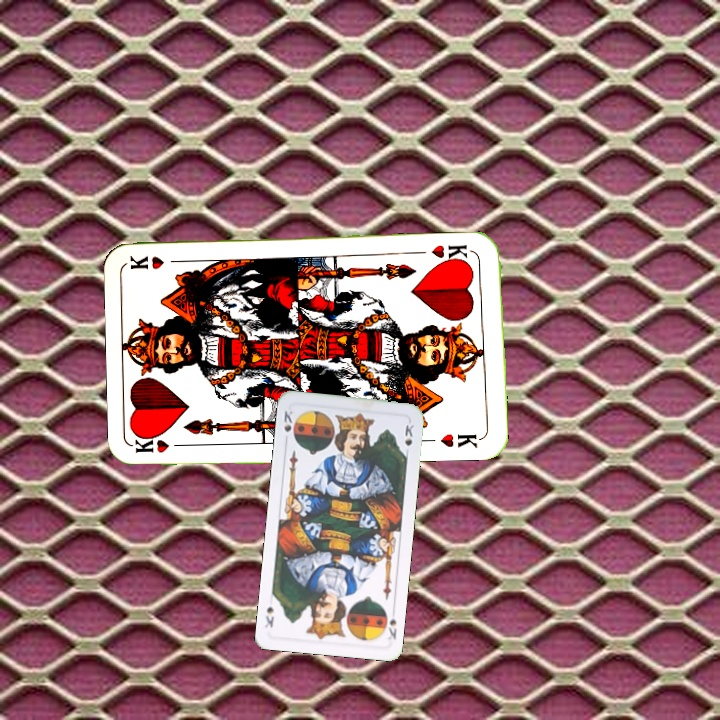HK: (132, 432, 192, 456), (427, 240, 471, 266)
SK: (380, 604, 399, 642), (280, 407, 295, 446)
